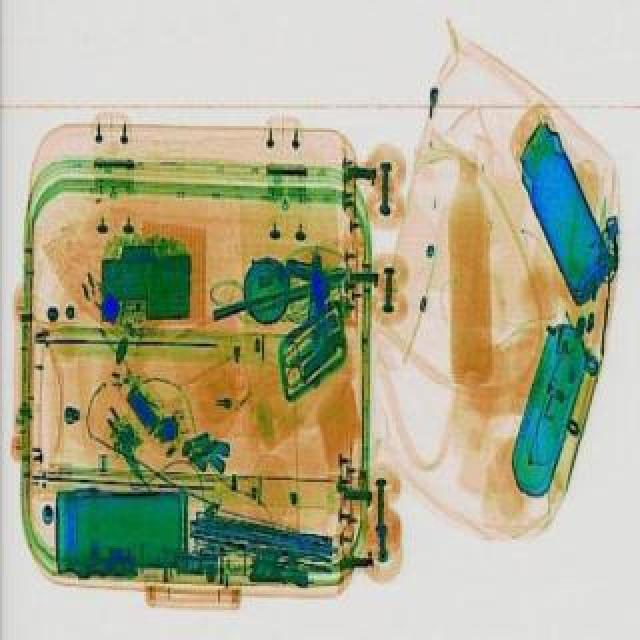pliers: (264, 322, 340, 386)
